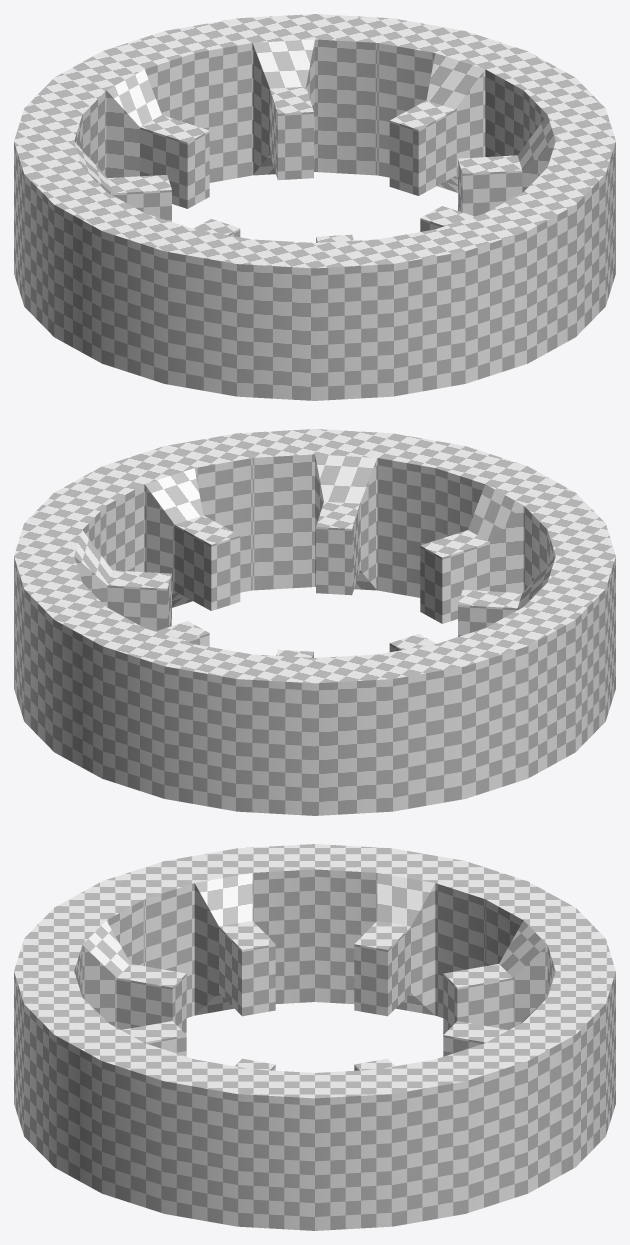
File: _lower.obj
3 renders of one model, top to bottom at view 1: azimuth 30°, elevation 25°; view 2: azimuth 150°, elevation 25°; view 3: azimuth 270°, elevation 25°, orthographic.
Visible parts, largest first — view 1: mergedBlocks; view 2: mergedBlocks; view 3: mergedBlocks.
Boxes of the visible parts, left/top/right/bottom form: mergedBlocks: left=14, top=14, right=615, bottom=400; mergedBlocks: left=14, top=429, right=615, bottom=815; mergedBlocks: left=14, top=844, right=615, bottom=1230.
Size of the model in its own units: 9.8 by 2.38 by 9.8.
Materials: 1 (1 with a texture image).
